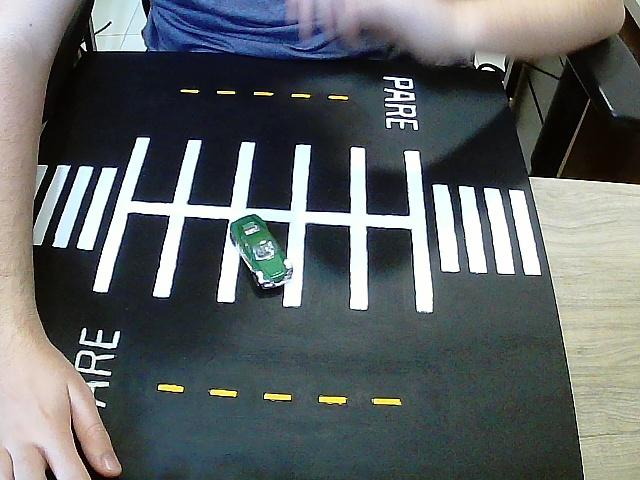Carro: (230, 214, 290, 290)
